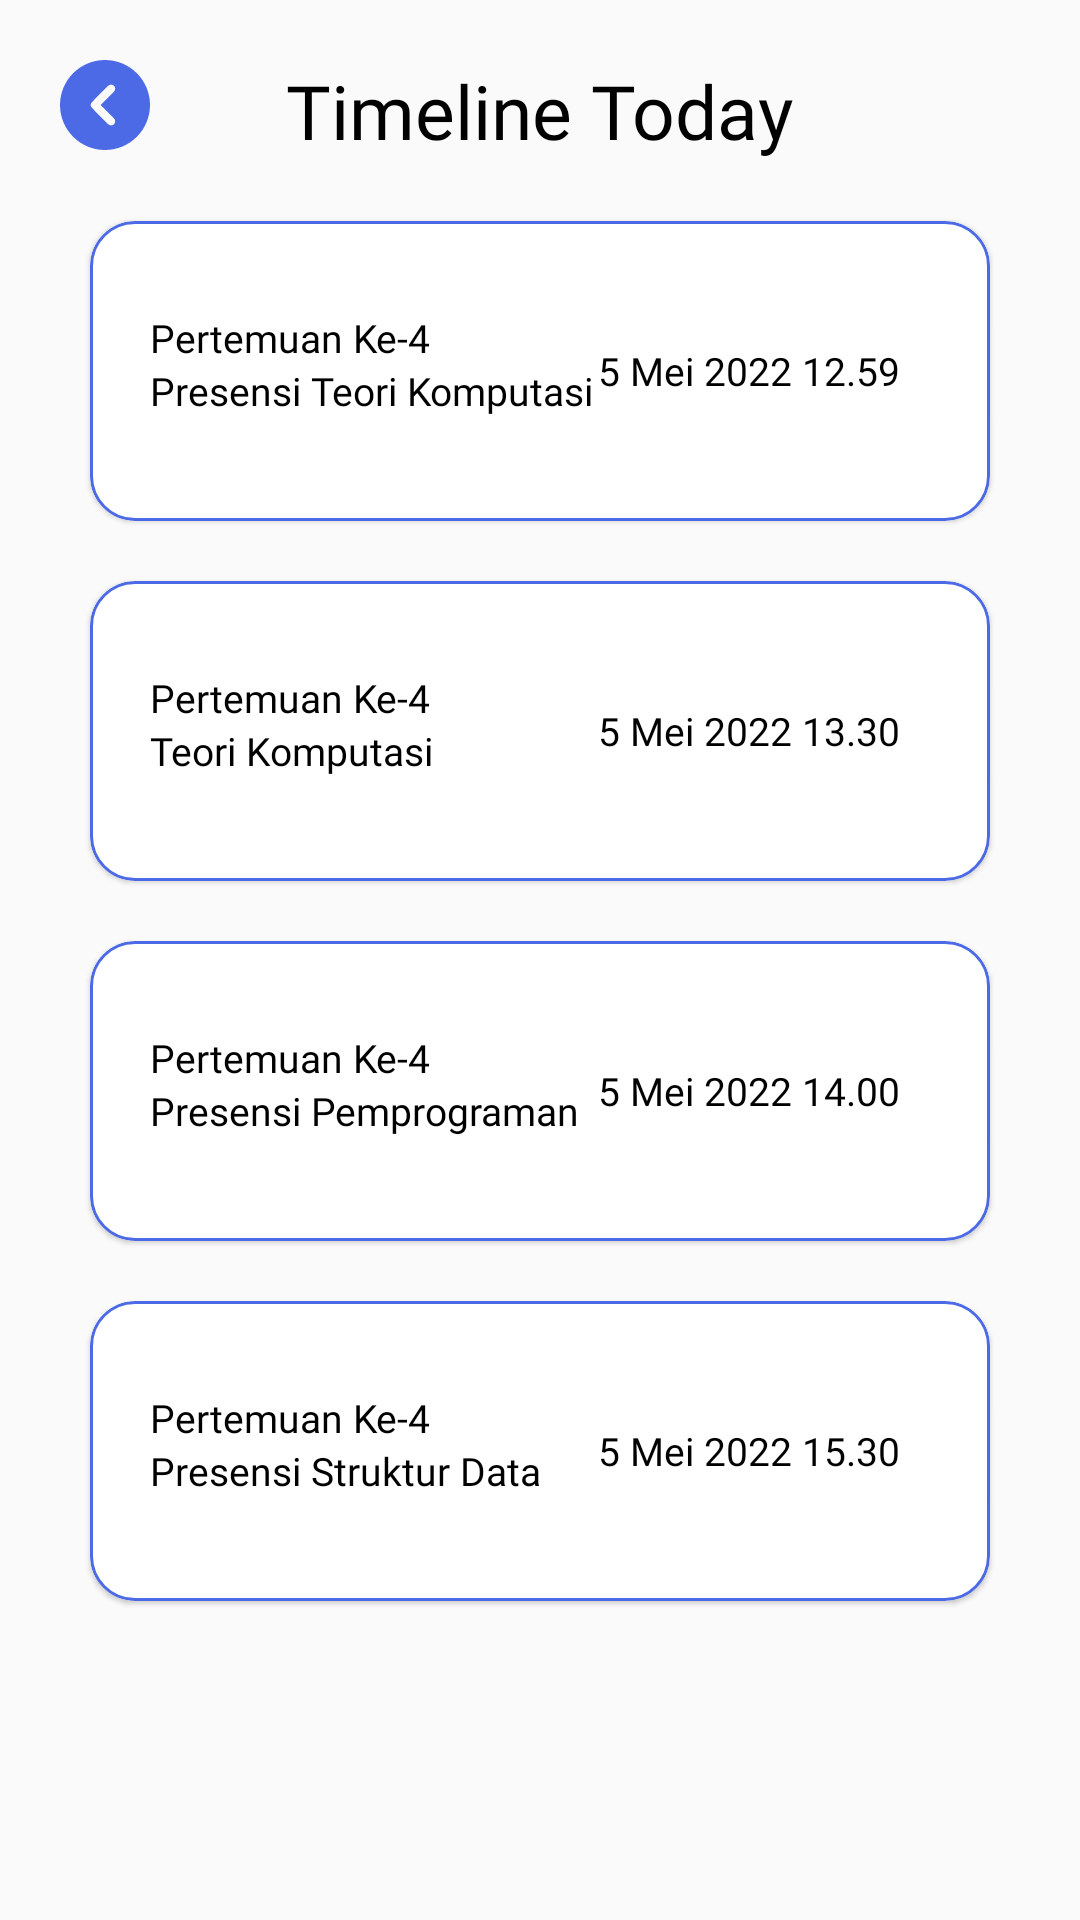

Screen size 1080px x 1920px. Icon name, then its center in pixels as (x=x, y=y):
back biru: (x=105, y=105)
